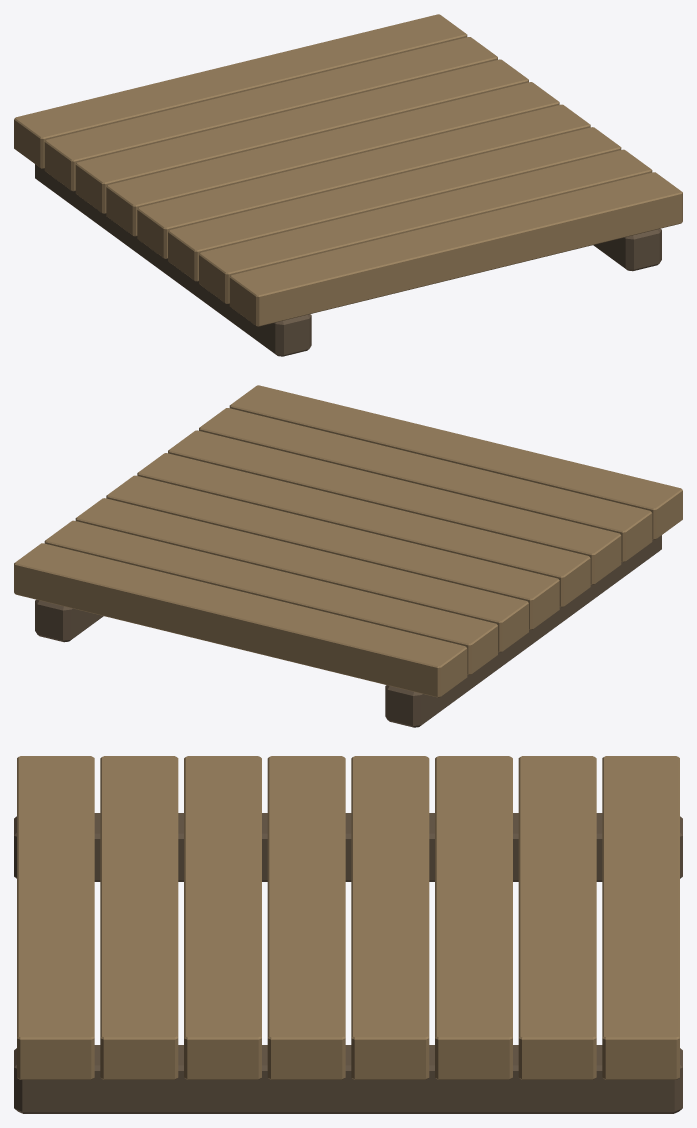
The model's file is floor-deck.glb.
The picture shows the model from 3 angles, top to bottom: view 1: azimuth 30°, elevation 25°; view 2: azimuth 150°, elevation 25°; view 3: azimuth 270°, elevation 25°; orthographic projection. The views are drawn at different scales.
Visible parts, largest first — view 1: floor-deck__body; view 2: floor-deck__body; view 3: floor-deck__body.
Boxes of the visible parts, <box> form: floor-deck__body: <box>14,14,682,356</box>; floor-deck__body: <box>14,385,682,727</box>; floor-deck__body: <box>14,756,682,1113</box>.
Bounding box in the file's own units: 2 × 0.3 × 2.
